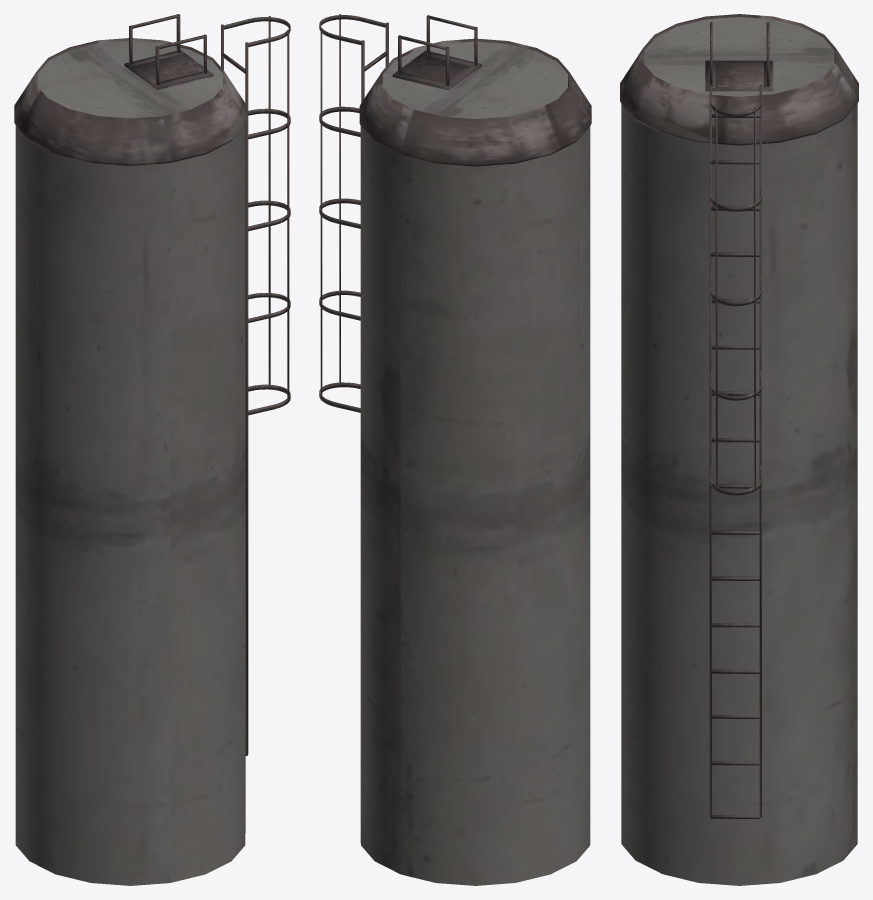
Rendered from Concrete_Tank_2.glb.
The picture shows the model from 3 angles, left to right: view 1: azimuth 30°, elevation 25°; view 2: azimuth 150°, elevation 25°; view 3: azimuth 270°, elevation 25°; orthographic projection. The views are drawn at different scales.
Visible parts, largest first — view 1: Concrete_Tank_2; view 2: Concrete_Tank_2; view 3: Concrete_Tank_2.
Boxes of the visible parts, x1=… form: Concrete_Tank_2: x1=14, y1=14, x2=290, y2=885; Concrete_Tank_2: x1=319, y1=14, x2=591, y2=885; Concrete_Tank_2: x1=620, y1=14, x2=858, y2=885.
Size of the model in its own units: 3.72 by 10.98 by 2.9.
Materials: 1 (1 with a texture image).
